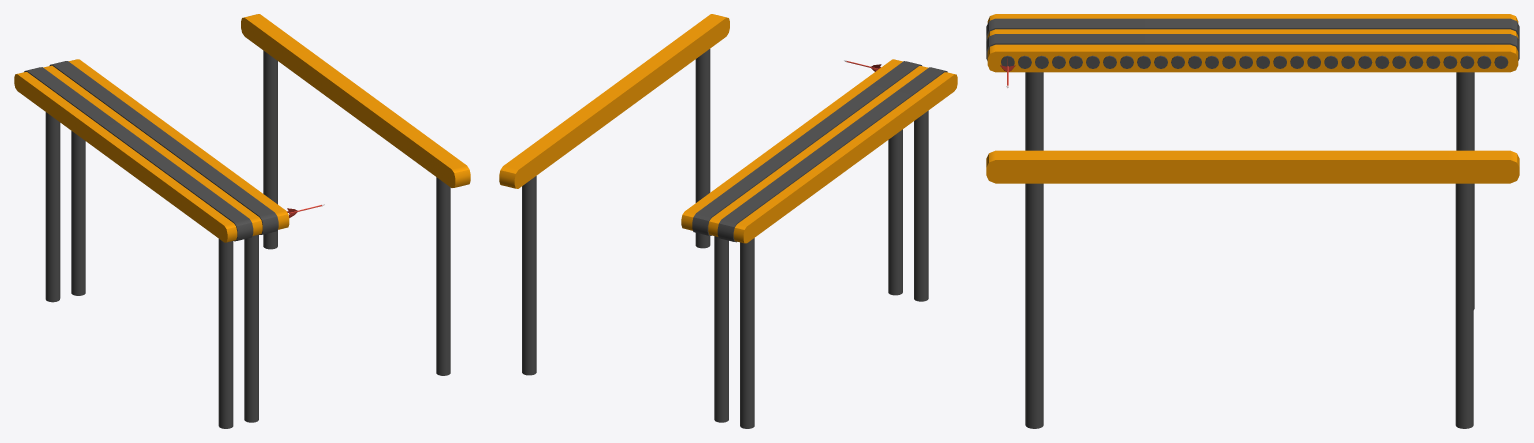
File: trap_05.fbx
The picture shows the model from 3 angles, left to right: view 1: azimuth 30°, elevation 25°; view 2: azimuth 150°, elevation 25°; view 3: azimuth 270°, elevation 25°; orthographic projection. The views are drawn at different scales.
Visible parts, largest first — view 1: trap_05; view 2: trap_05; view 3: trap_05.
Part boxes in pixels (x1,y1,x2,y2): trap_05: (14,14,470,428); trap_05: (499,14,957,428); trap_05: (986,14,1519,428).
Bounding box in the file's own units: 2085 × 1781 × 3192.
Materials: 1 (1 with a texture image).
